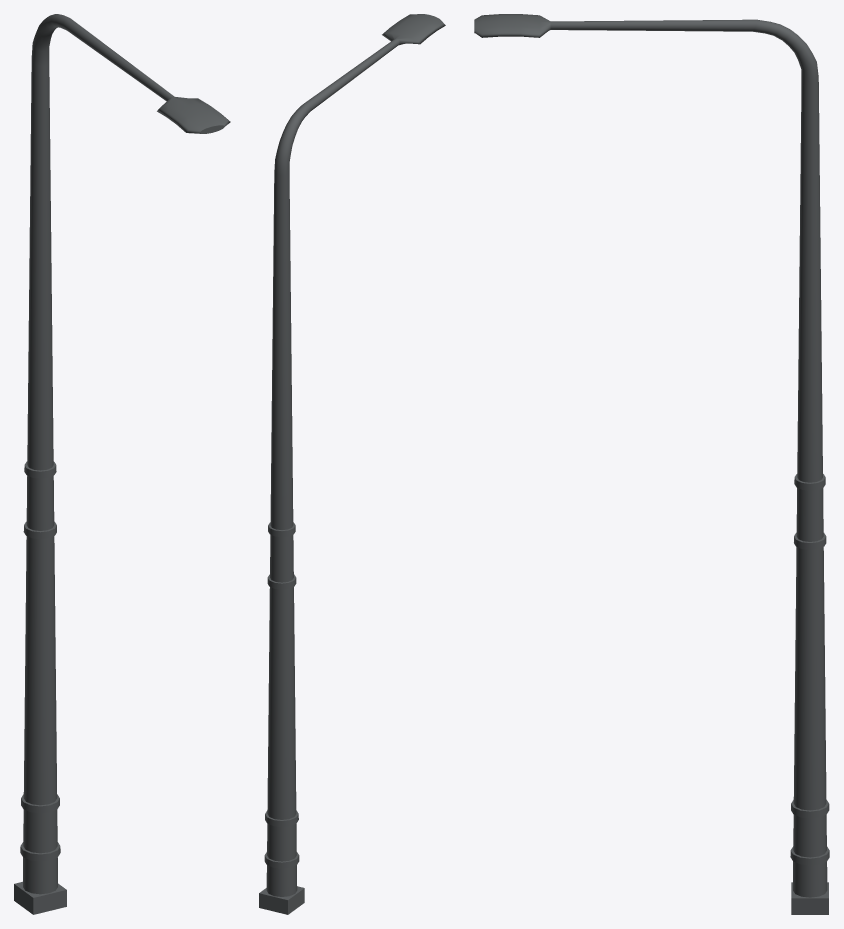
Rendered from light_pole_25.obj.
The picture shows the model from 3 angles, left to right: view 1: azimuth 30°, elevation 25°; view 2: azimuth 150°, elevation 25°; view 3: azimuth 270°, elevation 25°; orthographic projection. The views are drawn at different scales.
Parts seen in each view (by area): view 1: light_pole_25; view 2: light_pole_25; view 3: light_pole_25.
Part boxes in pixels (x1=…): light_pole_25: x1=14, y1=14, x2=230, y2=914; light_pole_25: x1=259, y1=14, x2=445, y2=914; light_pole_25: x1=474, y1=14, x2=829, y2=914.
Bounding box in the file's own units: 1.53 × 29.71 × 10.8.
1 material, 1 textured.
